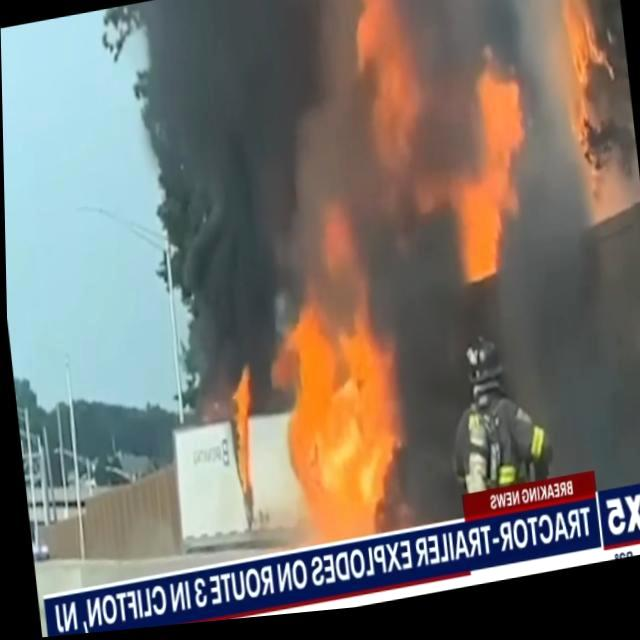fire: (422, 73, 550, 300), (278, 332, 404, 554), (536, 0, 612, 172)
